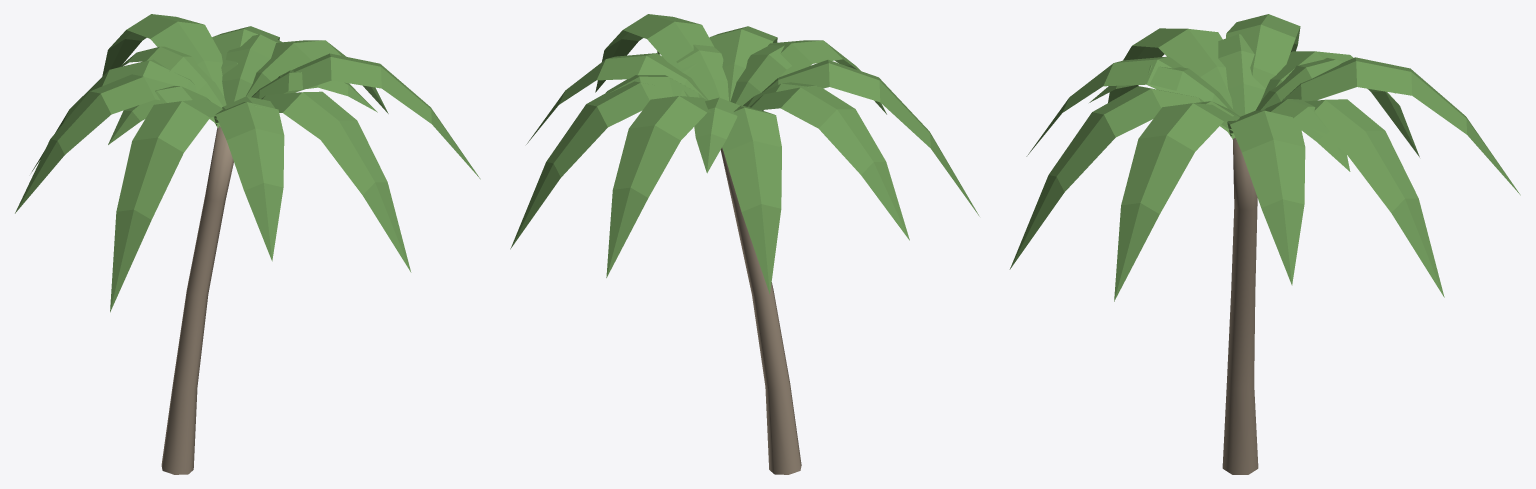
File: palm.glb
3 renders of one model, left to right at view 1: azimuth 30°, elevation 25°; view 2: azimuth 150°, elevation 25°; view 3: azimuth 270°, elevation 25°, orthographic. The views are drawn at different scales.
Visible parts, largest first — view 1: palm; view 2: palm; view 3: palm.
Part boxes in pixels (x1=…): palm: x1=15, y1=14, x2=480, y2=474; palm: x1=510, y1=14, x2=979, y2=474; palm: x1=1009, y1=14, x2=1520, y2=474.
Size of the model in its own units: 9.13 by 8.88 by 9.47.
